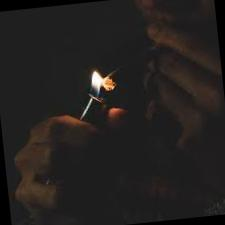Fire: (84, 65, 114, 107)
